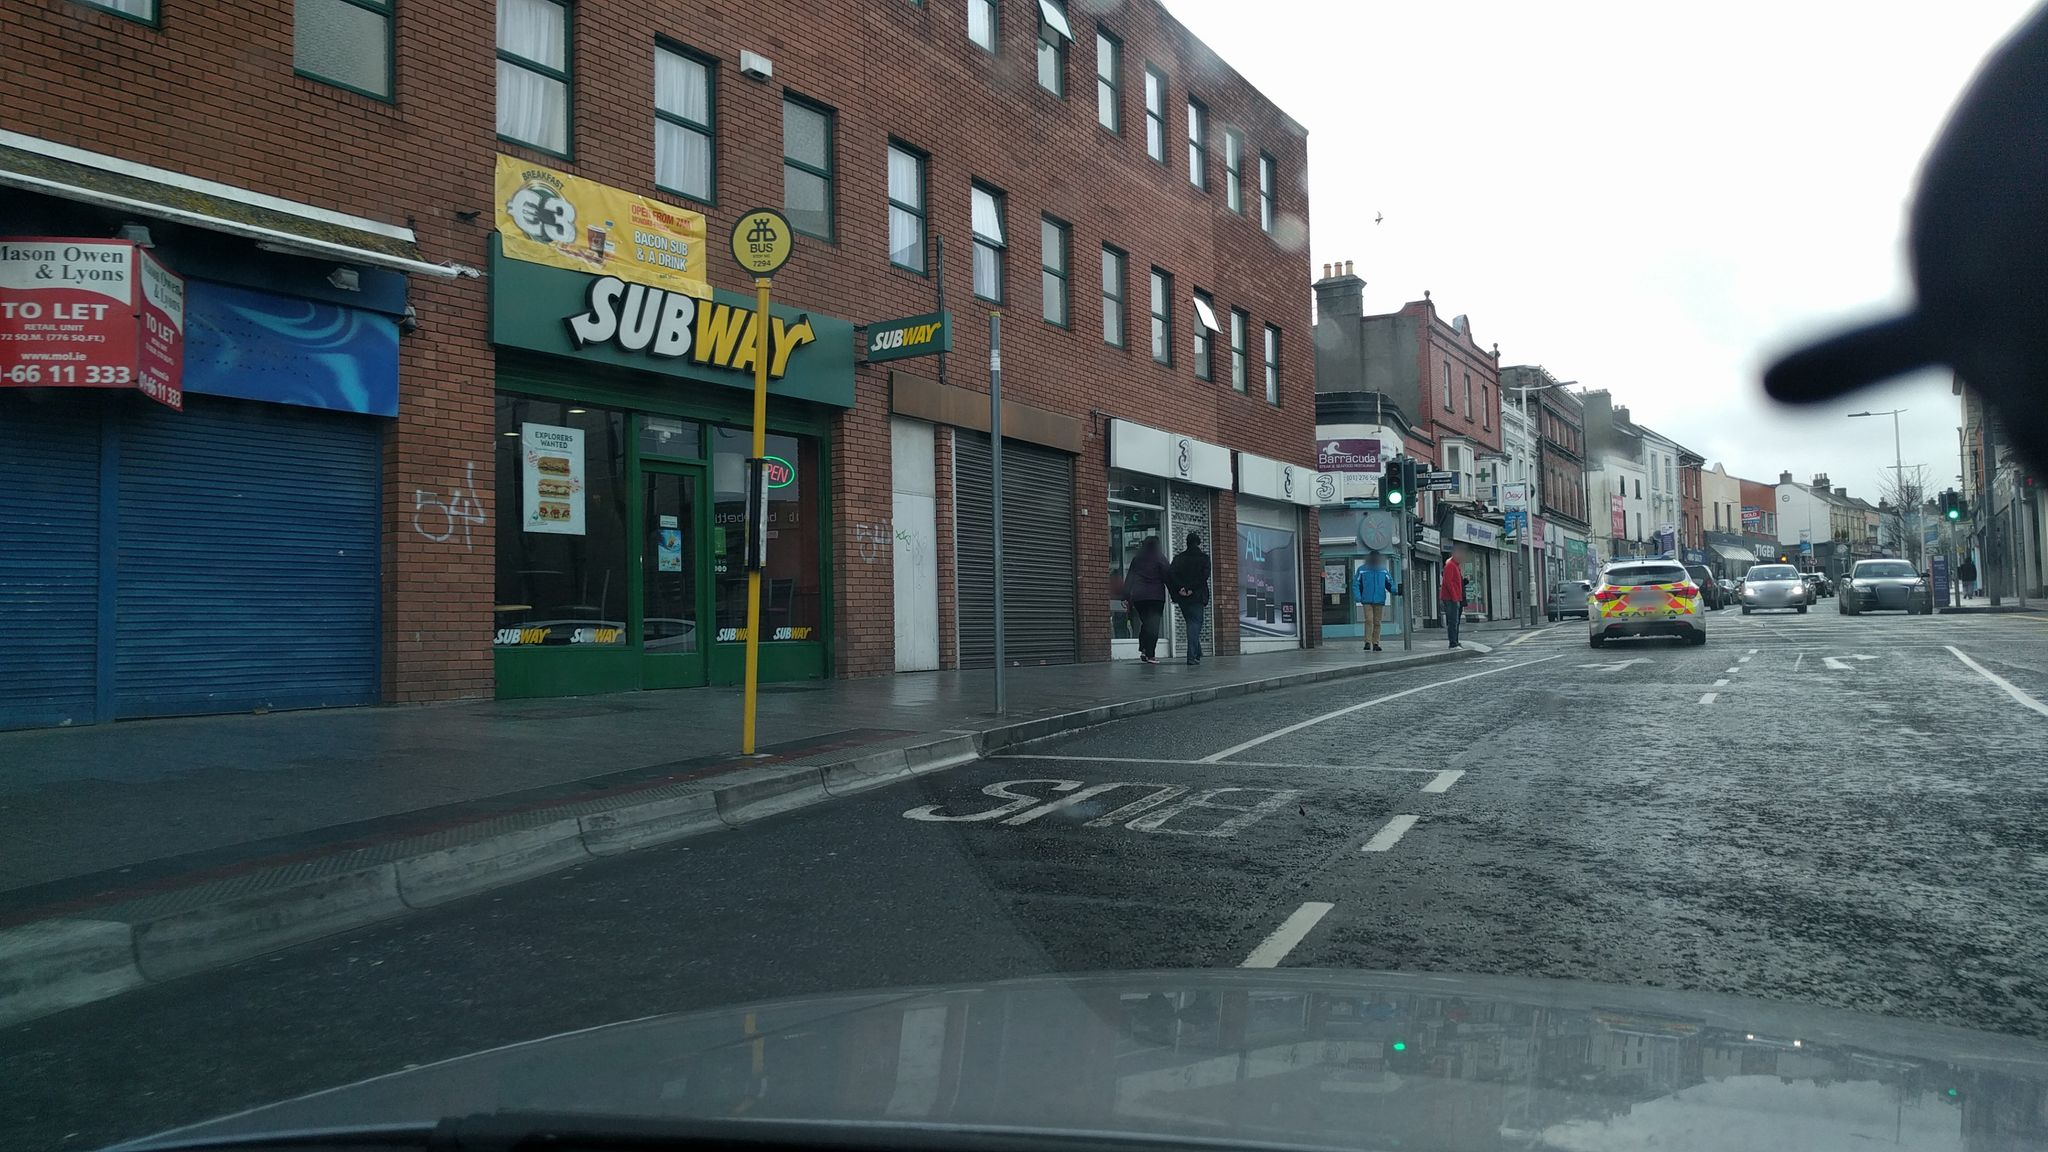property sign: (1, 231, 200, 423)
vinyl banner: (489, 141, 720, 311)
